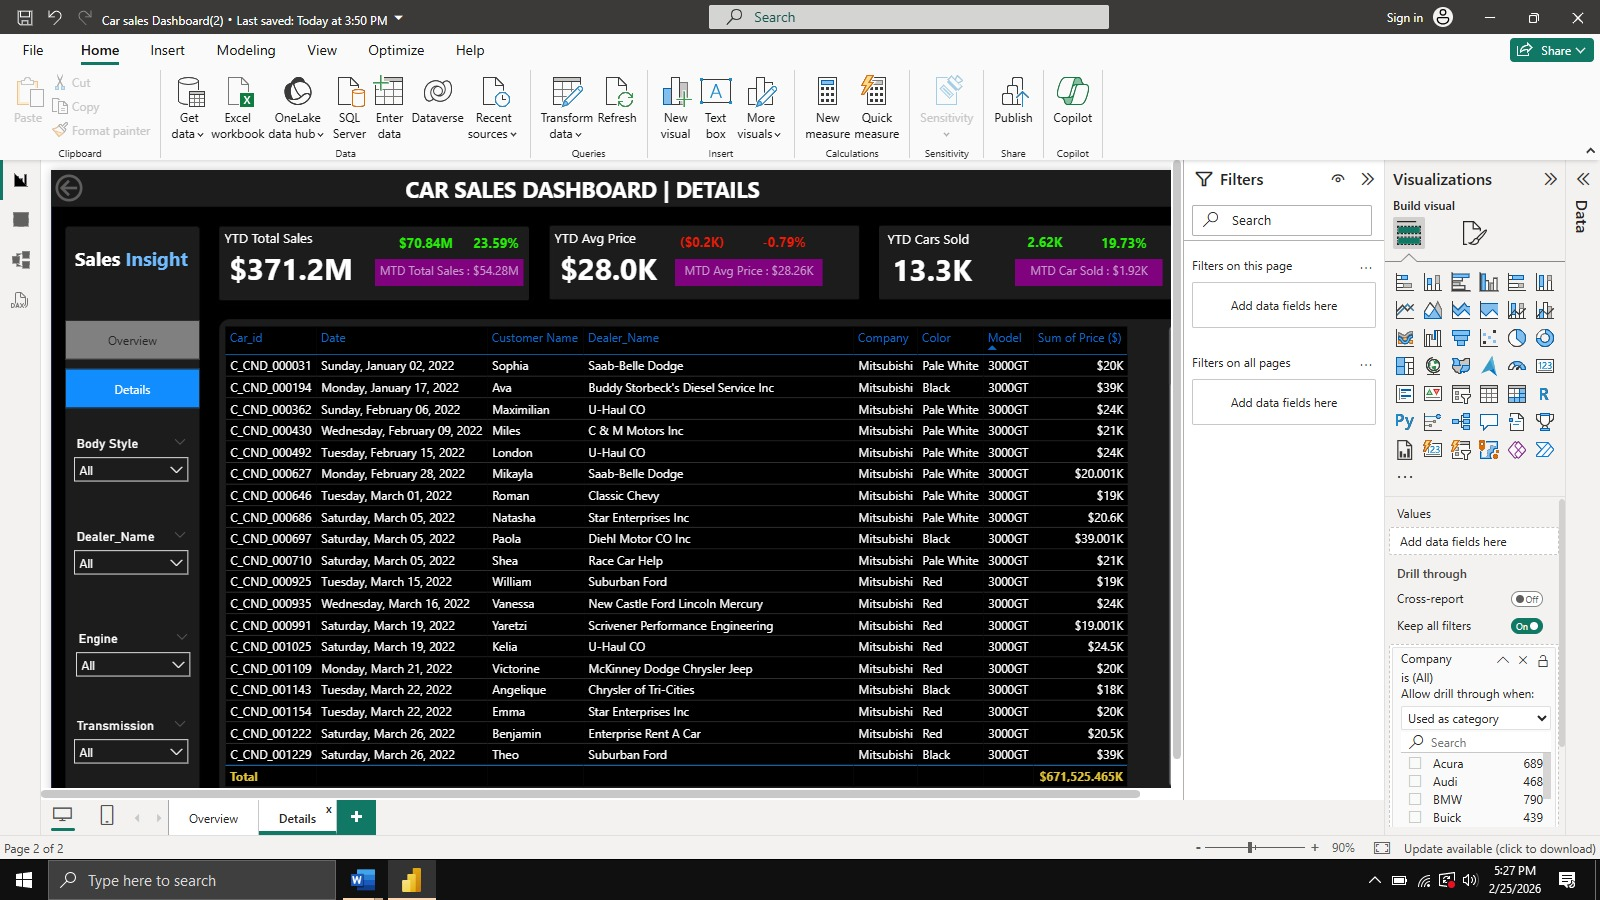

This screenshot's page, from the dashboard's own definition file:
{"tool":"powerbi","page":{"name":"Details","canvas":[1280,720],"ordinal":1},"visuals":[{"type":"card","title":"YTD Total Sales","fields":{"Values":["car_data.YTD Total Sales"]},"box":[188,65,158,68],"z":0},{"type":"card","fields":{"Values":["car_data.Sales Difference"]},"box":[378,67,78,34],"z":1000},{"type":"card","fields":{"Values":["car_data.YoY Sales Growth"]},"box":[456,67,78,34],"z":2000},{"type":"card","fields":{"Values":["car_data.MTD KPI"]},"box":[360,99,165,30],"z":3000},{"type":"card","title":"YTD Avg Price","fields":{"Values":["car_data.YTD Avg Price"]},"box":[554,65,130,68],"z":4000},{"type":"card","fields":{"Values":["car_data.Avg Price Diff"]},"box":[684,65,78,34],"z":5000},{"type":"card","fields":{"Values":["car_data.YoY Avg Price Growth"]},"box":[776,65,78,34],"z":6000},{"type":"card","fields":{"Values":["car_data.MTD Avg Price KPI"]},"box":[693.3,98.9,164.4,30],"z":7000},{"type":"card","title":"YTD Cars Sold","fields":{"Values":["car_data.YTD Cars Sold"]},"box":[924.4,66.7,108.9,67.8],"z":8000},{"type":"card","fields":{"Values":["car_data.Cars Sold Diff"]},"box":[1065.6,64.4,77.8,34.4],"z":9000},{"type":"card","fields":{"Values":["car_data.YoY Car Sold Growth"]},"box":[1153.3,65.6,77.8,34.4],"z":10000},{"type":"card","fields":{"Values":["car_data.MTD Car Sold KPI"]},"box":[1071.1,98.9,164.4,30],"z":11000},{"type":"textbox","box":[388.9,0,460,45.6],"z":17000},{"type":"slicer","fields":{"Values":["car_data.Body Style"]},"box":[15.6,291.1,146.7,68.9],"z":18000},{"type":"slicer","fields":{"Values":["car_data.Dealer_Name"]},"box":[15.6,394.4,146.7,70],"z":19000},{"type":"slicer","fields":{"Values":["car_data.Engine"]},"box":[17.8,507.8,146.7,70],"z":20000},{"type":"slicer","fields":{"Values":["car_data.Transmission"]},"box":[15.6,604.4,146.7,70],"z":21000},{"type":"textbox","box":[15.6,78.9,150,54.4],"z":22000},{"type":"tableEx","fields":{"Values":["car_data.Car_id","car_data.Date","car_data.Customer Name","car_data.Dealer_Name","car_data.Company","car_data.Color","car_data.Model","Sum(car_data.Price ($))"]},"box":[187.8,168.9,1068.9,521.1],"z":22001},{"type":"actionButton","box":[0,0,100,40],"z":22002},{"type":"pageNavigator","box":[15.6,166.7,150,98.9],"z":22003}]}

Visuals, with their boxes on the page's 1280x720 design canvas (x1, y1, x2, y2). These are canvas units, not pixel positions in the 1600x900 screenshot, which may show the page scaled, cropped or inside an application window:
"YTD Total Sales" card: bbox=[188, 65, 346, 133]
card - car_data.Sales Difference: bbox=[378, 67, 456, 101]
card - car_data.YoY Sales Growth: bbox=[456, 67, 534, 101]
card - car_data.MTD KPI: bbox=[360, 99, 525, 129]
"YTD Avg Price" card: bbox=[554, 65, 684, 133]
card - car_data.Avg Price Diff: bbox=[684, 65, 762, 99]
card - car_data.YoY Avg Price Growth: bbox=[776, 65, 854, 99]
card - car_data.MTD Avg Price KPI: bbox=[693, 99, 858, 129]
"YTD Cars Sold" card: bbox=[924, 67, 1033, 134]
card - car_data.Cars Sold Diff: bbox=[1066, 64, 1143, 99]
card - car_data.YoY Car Sold Growth: bbox=[1153, 66, 1231, 100]
card - car_data.MTD Car Sold KPI: bbox=[1071, 99, 1236, 129]
textbox: bbox=[389, 0, 849, 46]
slicer - car_data.Body Style: bbox=[16, 291, 162, 360]
slicer - car_data.Dealer_Name: bbox=[16, 394, 162, 464]
slicer - car_data.Engine: bbox=[18, 508, 164, 578]
slicer - car_data.Transmission: bbox=[16, 604, 162, 674]
textbox: bbox=[16, 79, 166, 133]
tableEx - car_data.Car_id x car_data.Date: bbox=[188, 169, 1257, 690]
actionButton: bbox=[0, 0, 100, 40]
pageNavigator: bbox=[16, 167, 166, 266]
